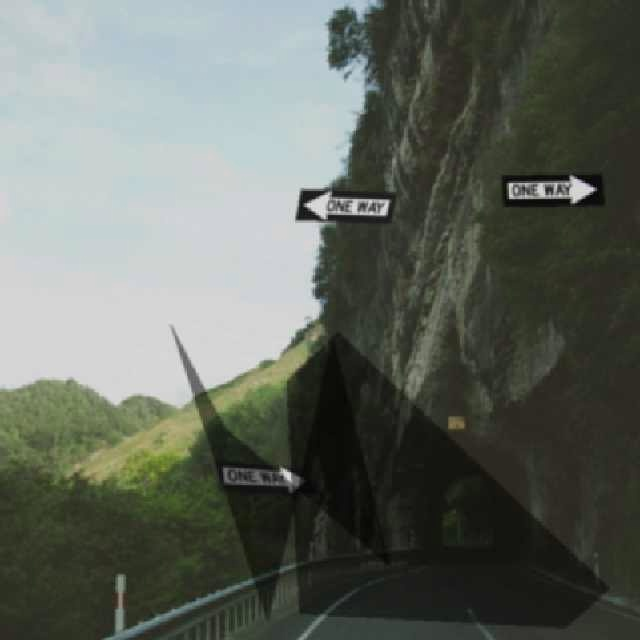ONE_WAY_ left: (293, 187, 397, 223)
ONE_WAY_ right: (214, 458, 318, 494), (500, 172, 604, 206)
